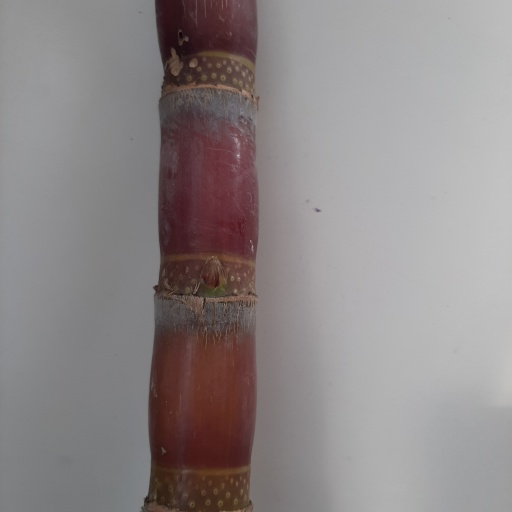Bud: (200, 256, 227, 289)
